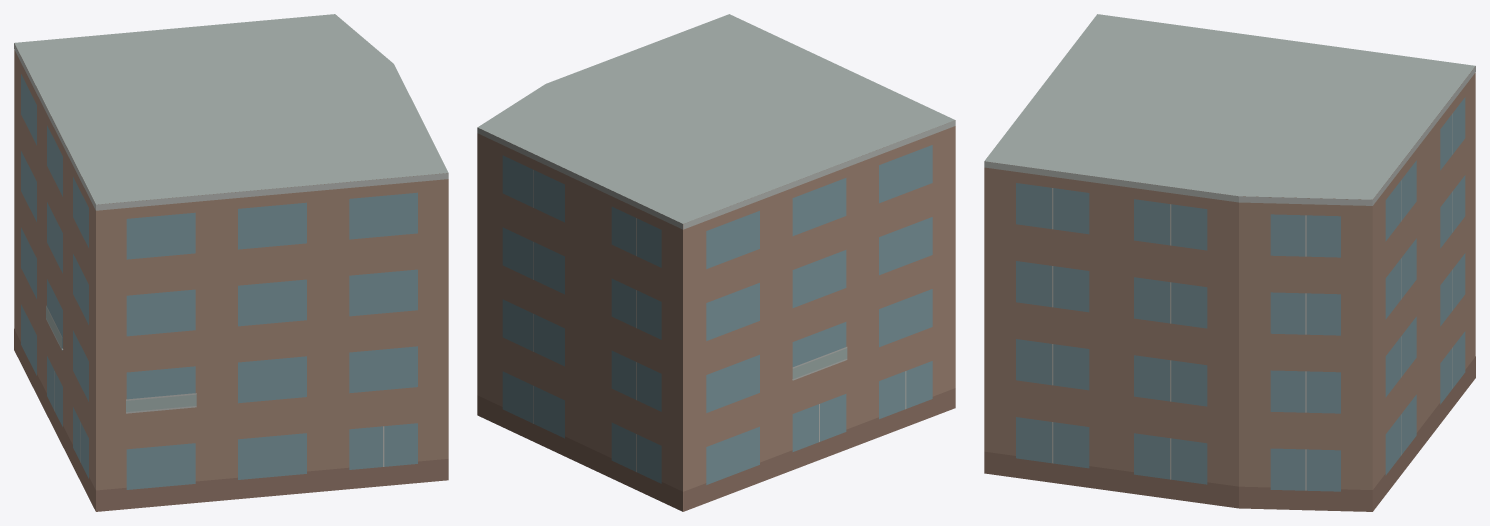
File: residential-4fbbcf77-2949-4fed-83b8-281f2c0bca99.glb
The picture shows the model from 3 angles, left to right: view 1: azimuth 30°, elevation 25°; view 2: azimuth 150°, elevation 25°; view 3: azimuth 270°, elevation 25°; orthographic projection. The views are drawn at different scales.
Parts seen in each view (by area): view 1: residential-4fbbcf77-2949-4fed-83b8-281f2c0bca99.tmp; view 2: residential-4fbbcf77-2949-4fed-83b8-281f2c0bca99.tmp; view 3: residential-4fbbcf77-2949-4fed-83b8-281f2c0bca99.tmp.
Part boxes in pixels (x1,y1,x2,y2): residential-4fbbcf77-2949-4fed-83b8-281f2c0bca99.tmp: (14,14,448,511); residential-4fbbcf77-2949-4fed-83b8-281f2c0bca99.tmp: (477,14,955,511); residential-4fbbcf77-2949-4fed-83b8-281f2c0bca99.tmp: (984,14,1475,511).
Size of the model in its own units: 15.58 by 12.2 by 17.42.
